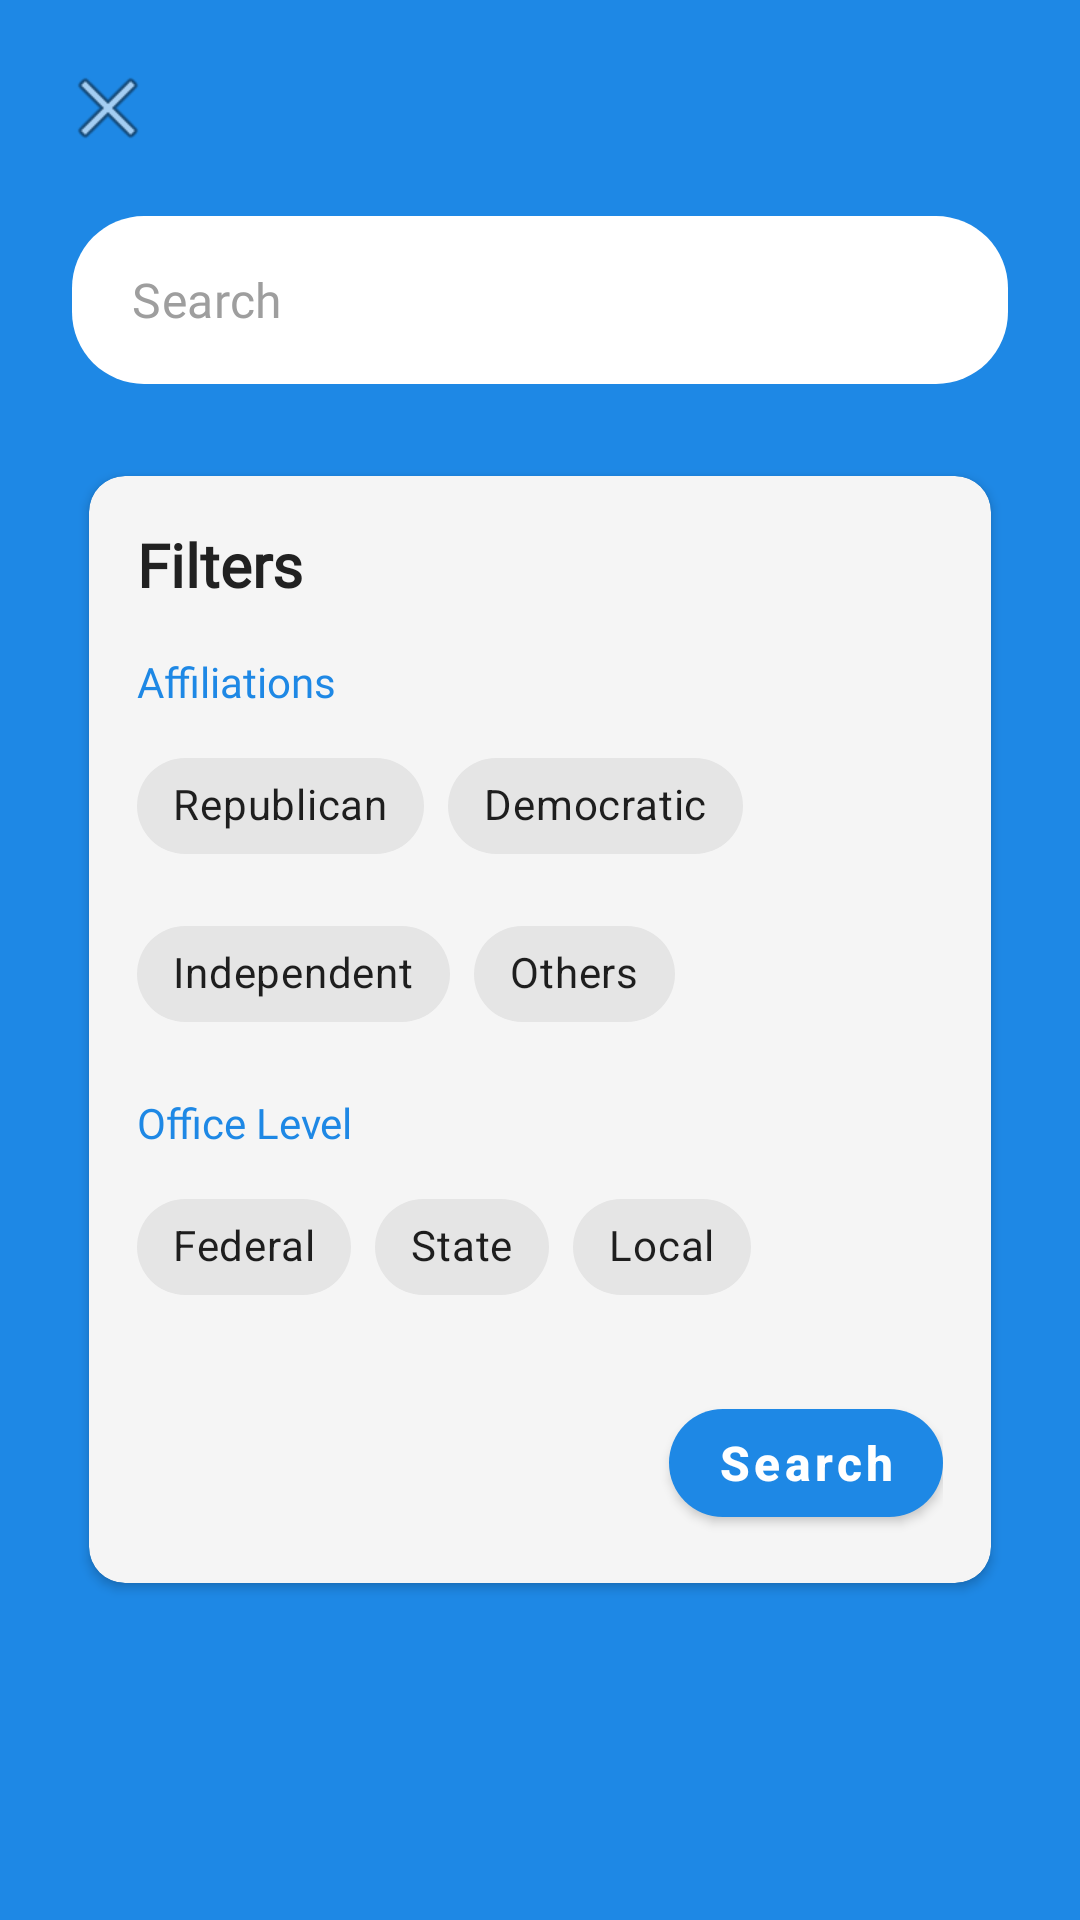

Where icons sit on this 1080×1920 app screen, as {"left": x1, "top": y1, "right": x2, "bottom": y2}:
close clear cancel: {"left": 78, "top": 78, "right": 138, "bottom": 138}
